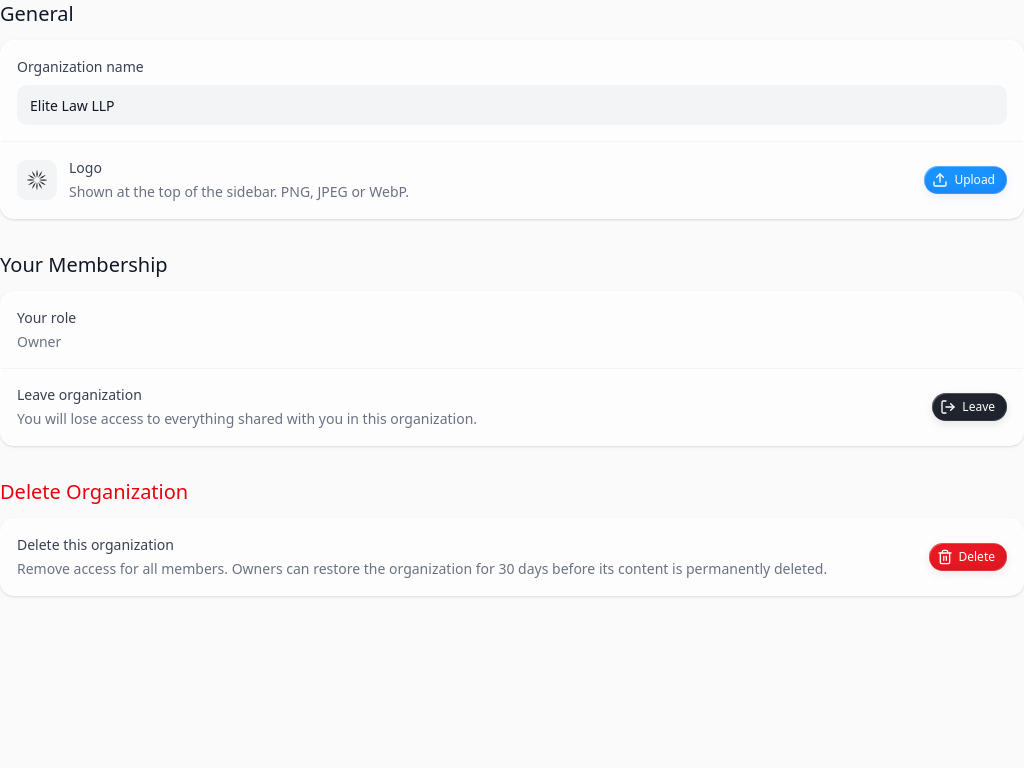
Test: deleting › names the failure a failed delete, with the server's reason
The width and height of the screenshot is (1024, 768).
Click the button named "Delete" in the row of "Delete this organization" at (968, 557), box [928,543,1007,571]
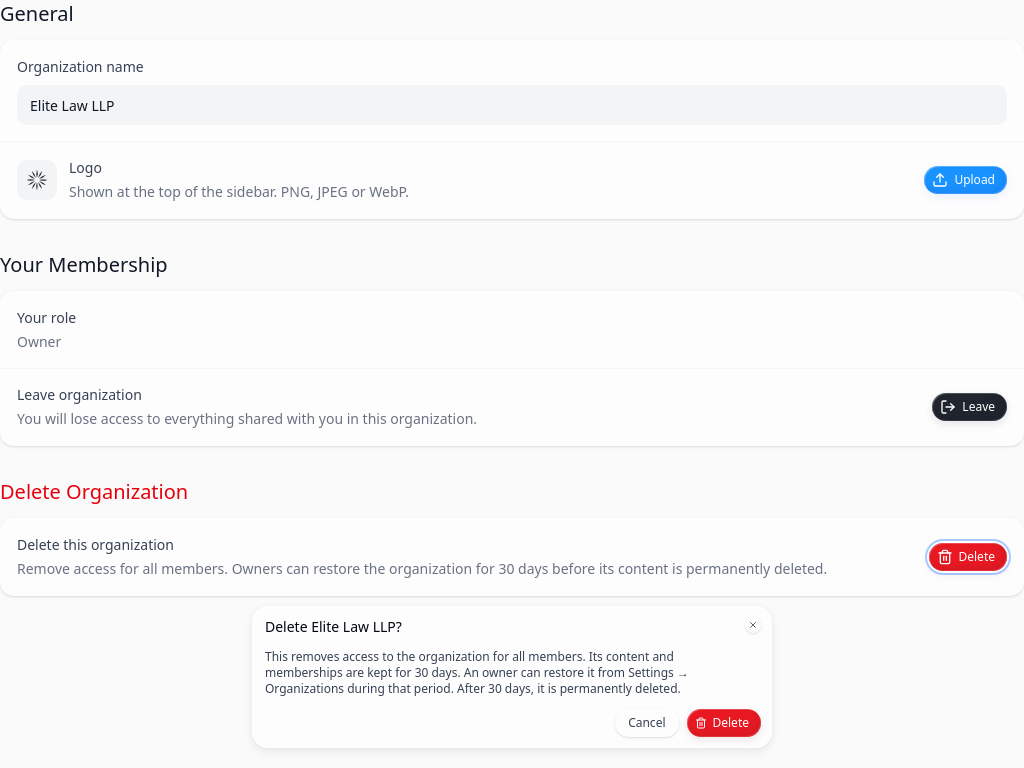
Expected: the text "Delete Elite Law LLP?" is shown, [265,617,402,636]
Click the 4th button named "Delete" at (724, 723), box [686,709,761,737]
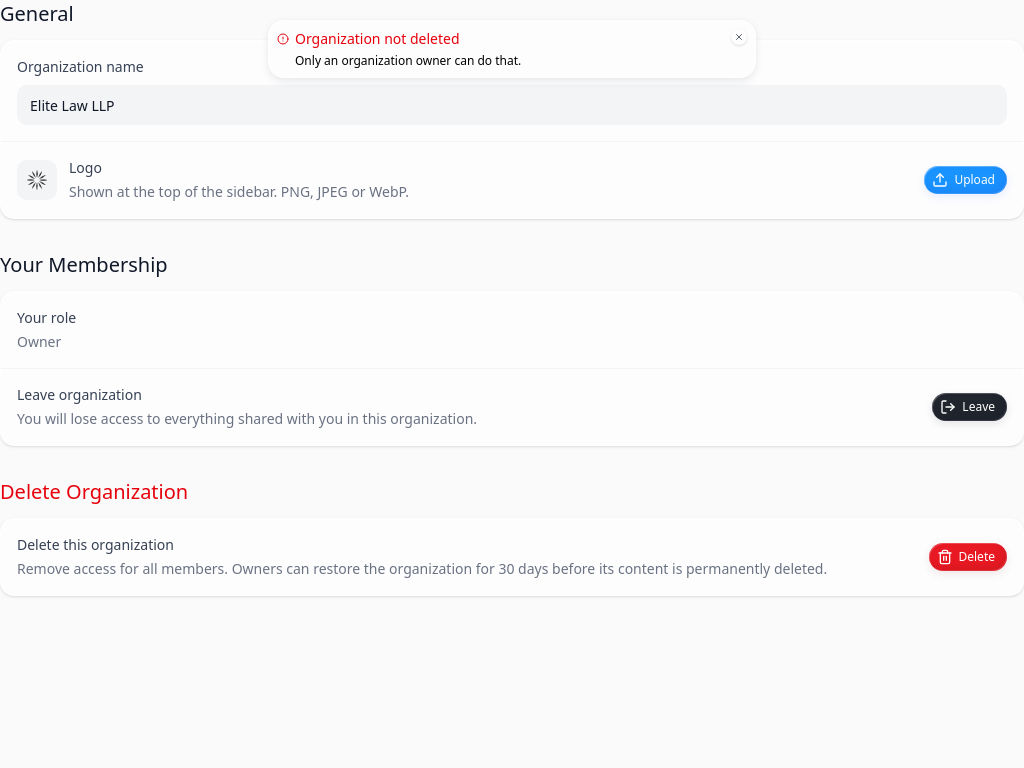
Expected: the text "Organization not deleted" is shown, [295,29,460,48]
Expected: the text "Only an organization owner can do that." is shown, [295,52,521,69]
Expected: the text "Delete Elite Law LLP?" is gone
